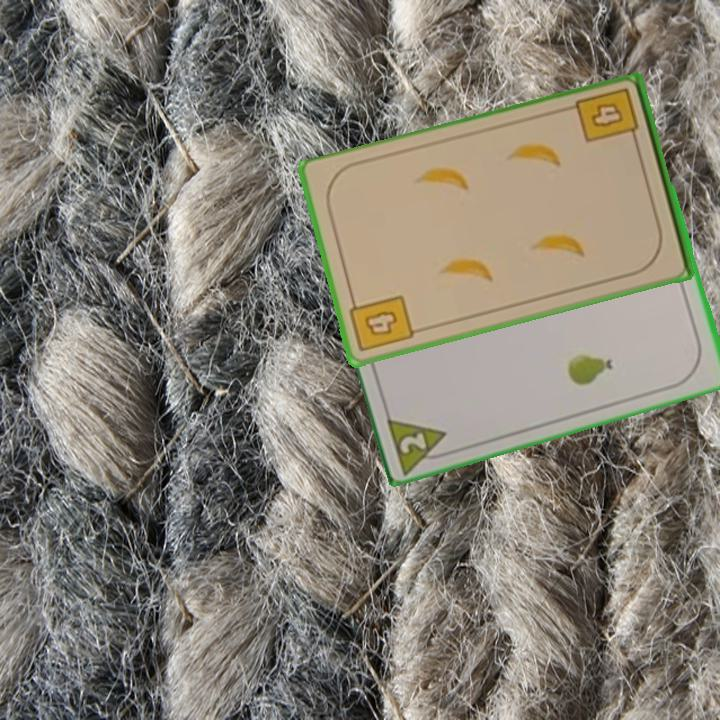2p: (383, 411, 456, 474)
4b: (573, 84, 642, 149), (346, 292, 417, 355)
